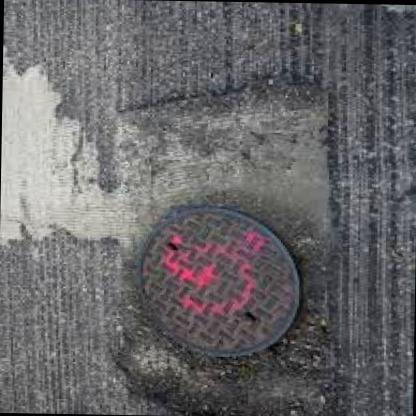manholes: (117, 192, 318, 378)
